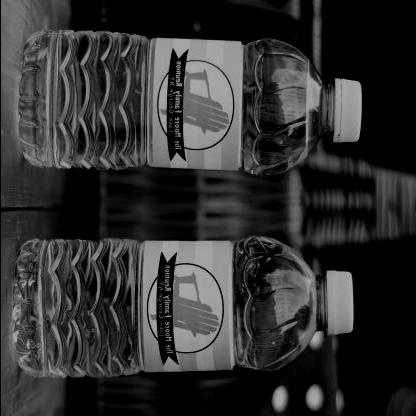bottle: (16, 27, 362, 177), (10, 235, 356, 380)
